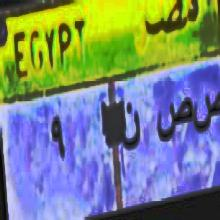9: (46, 112, 69, 167)
noon: (117, 94, 144, 155)
saad: (156, 93, 192, 149), (192, 86, 220, 133)
